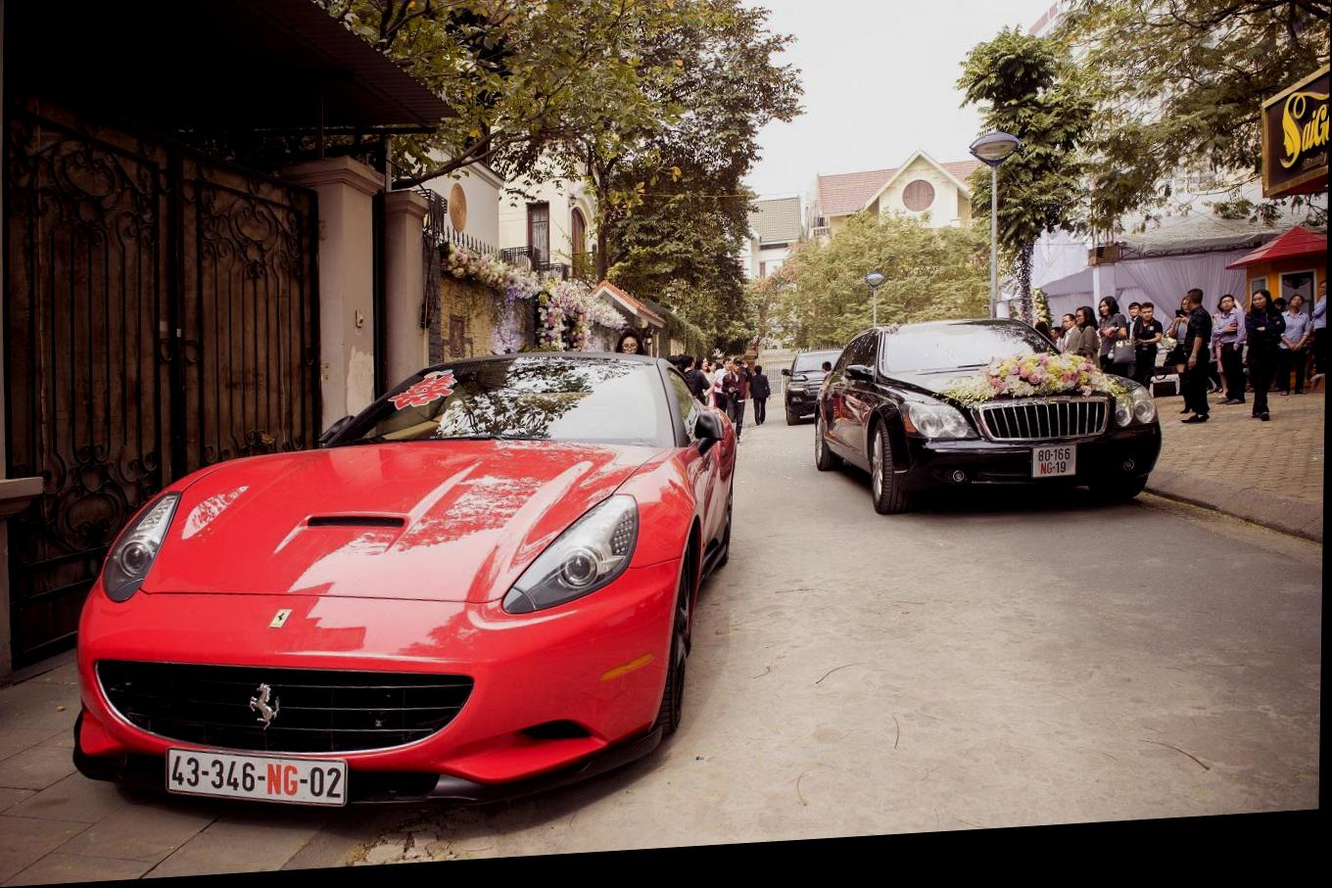License_Plate: (157, 731, 355, 834), (1029, 442, 1073, 479)
